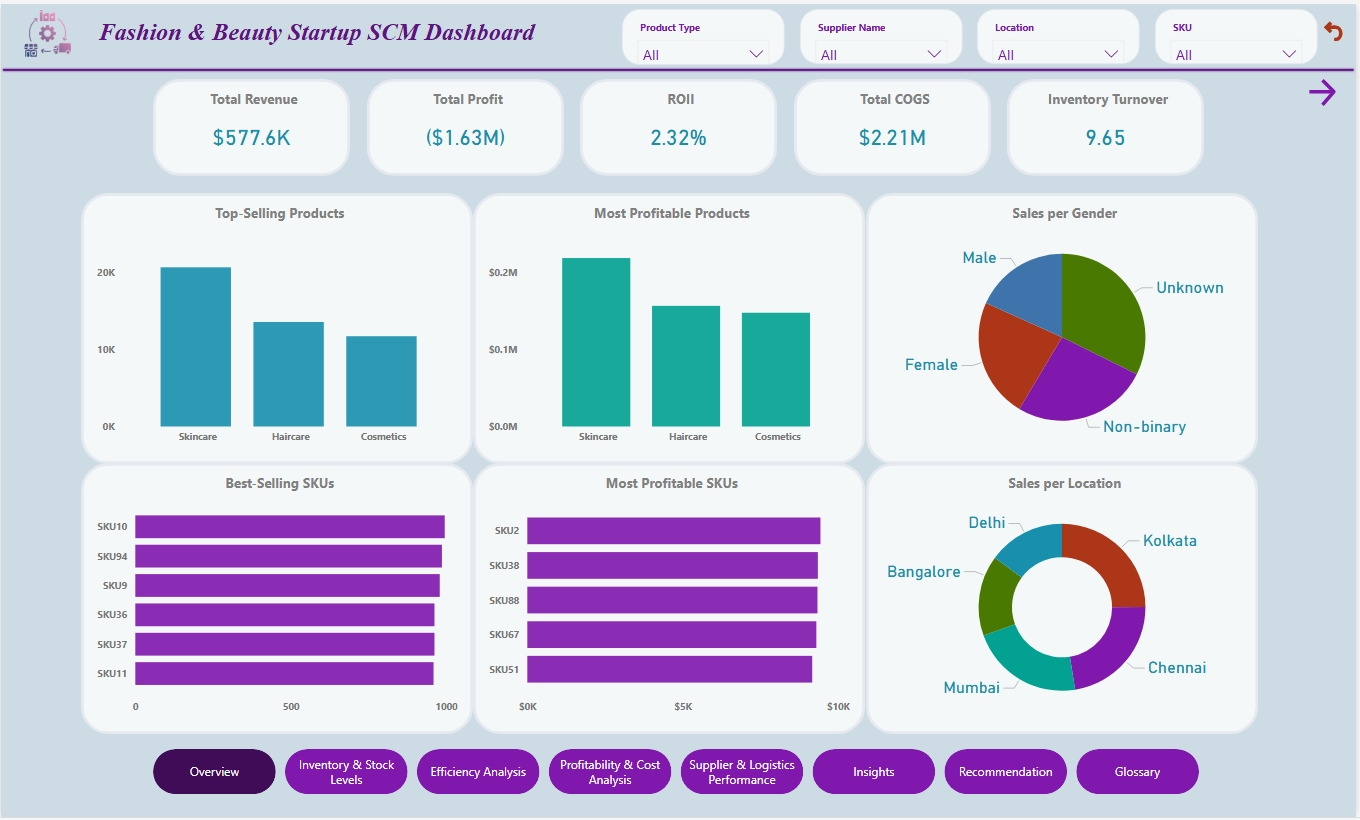

What the dashboard file says about the page in this screenshot:
{"tool":"powerbi","page":{"name":"Overview","canvas":[1500,900],"ordinal":0},"visuals":[{"type":"textbox","box":[103.2,11,554.4,46],"z":0},{"type":"columnChart","title":"Top-Selling Products","fields":{"Category":["supply_chain_data.Product Type"],"Y":["Sum(supply_chain_data.Number of Products Sold)"]},"box":[88.7,208.7,434.3,299.6],"z":1000},{"type":"image","box":[0,0,103.2,65.1],"z":2000},{"type":"columnChart","title":"Most Profitable Products","fields":{"Category":["supply_chain_data.Product Type"],"Y":["Sum(supply_chain_data.Profit per SKU)"]},"box":[522.9,208.7,434.3,299.6],"z":3000},{"type":"shape","box":[0,40,1500,66],"z":4000},{"type":"clusteredBarChart","title":"Best-Selling SKUs","fields":{"Category":["supply_chain_data.SKU"],"Y":["Sum(supply_chain_data.Number of Products Sold)"]},"box":[88.7,508.4,434.3,299.6],"z":5000},{"type":"card","title":"Total Revenue","fields":{"Values":[" Measures.Total Revenue"]},"box":[168.7,83,217.7,106.6],"z":6000},{"type":"clusteredBarChart","title":"Most Profitable SKUs","fields":{"Category":["supply_chain_data.SKU"],"Y":["Sum(supply_chain_data.Profit per SKU)"]},"box":[522.9,508.4,434.3,299.6],"z":7000},{"type":"card","title":"Total Profit","fields":{"Values":[" Measures.Total Profit"]},"box":[404.9,83,217.7,106.6],"z":8000},{"type":"pieChart","title":"Sales per Gender","fields":{"Category":["supply_chain_data.Customer Demographics"],"Y":["Sum(supply_chain_data.Order Quantities)"]},"box":[957.2,208.7,434.3,299.6],"z":9000},{"type":"card","title":"ROII","fields":{"Values":[" Measures.Return on Inventory Investment (ROII)"]},"box":[641.1,83,217.7,106.6],"z":10000},{"type":"donutChart","title":"Sales per Location","fields":{"Category":["supply_chain_data.Location"],"Y":["Sum(supply_chain_data.Order Quantities)"]},"box":[957.2,508.4,434.3,299.6],"z":11000},{"type":"card","title":"Total COGS","fields":{"Values":[" Measures.Total COGS"]},"box":[877.4,83,217.7,106.6],"z":12000},{"type":"card","title":"Inventory Turnover","fields":{"Values":[" Measures.Inventory Turnover"]},"box":[1113.6,83,217.7,106.6],"z":13000},{"type":"pageNavigator","box":[168.3,824.8,1162.6,50.5],"z":14000},{"type":"slicer","fields":{"Values":["supply_chain_data.Product Type"]},"box":[687.6,5,180,62],"z":15000},{"type":"slicer","fields":{"Values":["supply_chain_data.Supplier Name"]},"box":[884.1,5,180,61.1],"z":16000},{"type":"slicer","fields":{"Values":["supply_chain_data.Location"]},"box":[1080.5,5,180,61.1],"z":17000},{"type":"slicer","fields":{"Values":["supply_chain_data.SKU"]},"box":[1277,5,180,61.1],"z":18000},{"type":"actionButton","box":[1460,0,40,60.5],"z":19000},{"type":"actionButton","box":[1442.9,78.8,56.3,39.4],"z":20000}]}

Visuals, with their boxes in screenshot pixels (x1, y1, x2, y2), scaled from the page's 1500x900 canvas onto the 1360x820 screenshot:
textbox: left=94, top=10, right=596, bottom=52
"Top-Selling Products" columnChart: left=80, top=190, right=474, bottom=463
image: left=0, top=0, right=94, bottom=59
"Most Profitable Products" columnChart: left=474, top=190, right=868, bottom=463
shape: left=0, top=36, right=1359, bottom=97
"Best-Selling SKUs" clusteredBarChart: left=80, top=463, right=474, bottom=736
"Total Revenue" card: left=153, top=76, right=350, bottom=173
"Most Profitable SKUs" clusteredBarChart: left=474, top=463, right=868, bottom=736
"Total Profit" card: left=367, top=76, right=564, bottom=173
"Sales per Gender" pieChart: left=868, top=190, right=1262, bottom=463
"ROII" card: left=581, top=76, right=779, bottom=173
"Sales per Location" donutChart: left=868, top=463, right=1262, bottom=736
"Total COGS" card: left=796, top=76, right=993, bottom=173
"Inventory Turnover" card: left=1010, top=76, right=1207, bottom=173
pageNavigator: left=153, top=751, right=1207, bottom=797
slicer - supply_chain_data.Product Type: left=623, top=5, right=787, bottom=61
slicer - supply_chain_data.Supplier Name: left=802, top=5, right=965, bottom=60
slicer - supply_chain_data.Location: left=980, top=5, right=1143, bottom=60
slicer - supply_chain_data.SKU: left=1158, top=5, right=1321, bottom=60
actionButton: left=1324, top=0, right=1359, bottom=55
actionButton: left=1308, top=72, right=1359, bottom=108
